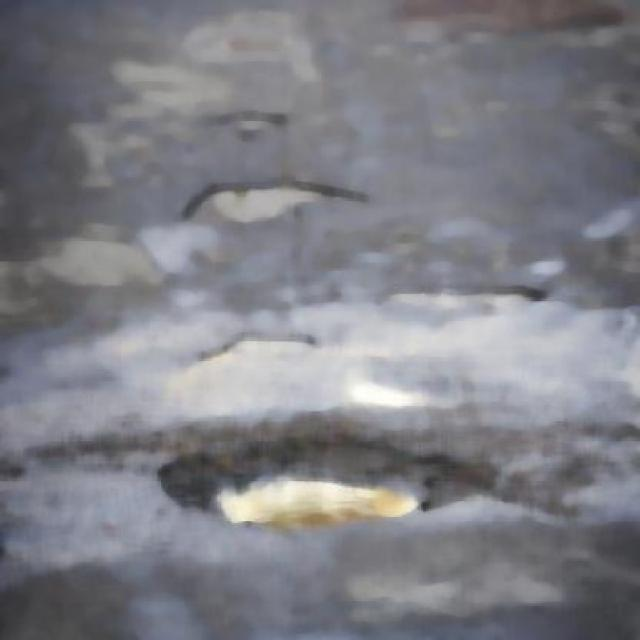Pothole: (171, 430, 434, 555), (197, 164, 351, 250), (380, 271, 574, 331), (202, 321, 330, 382), (231, 107, 304, 141)
